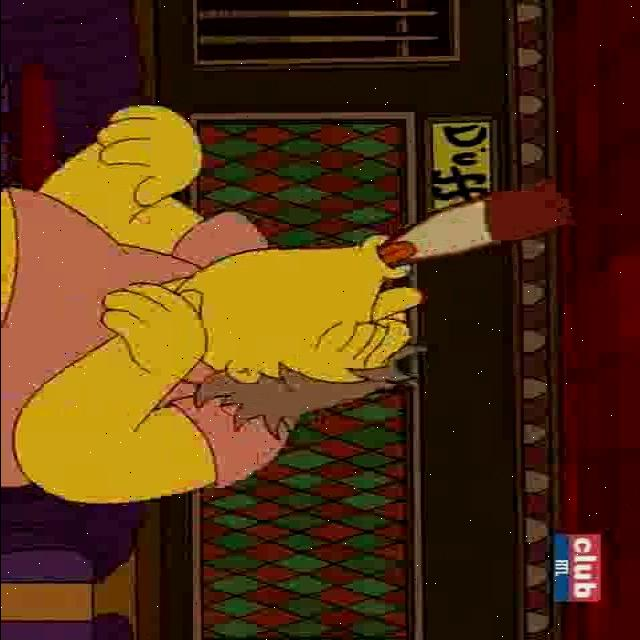Barney Gumble: (166, 230, 426, 440)
